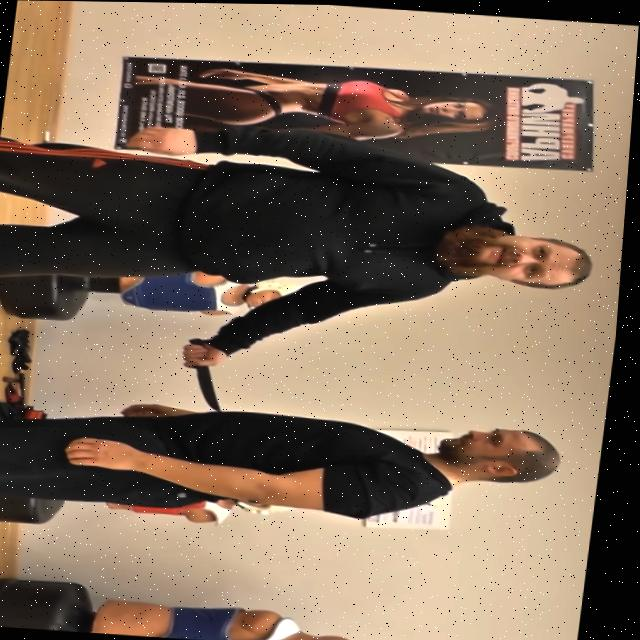knife: (193, 363, 234, 410)
